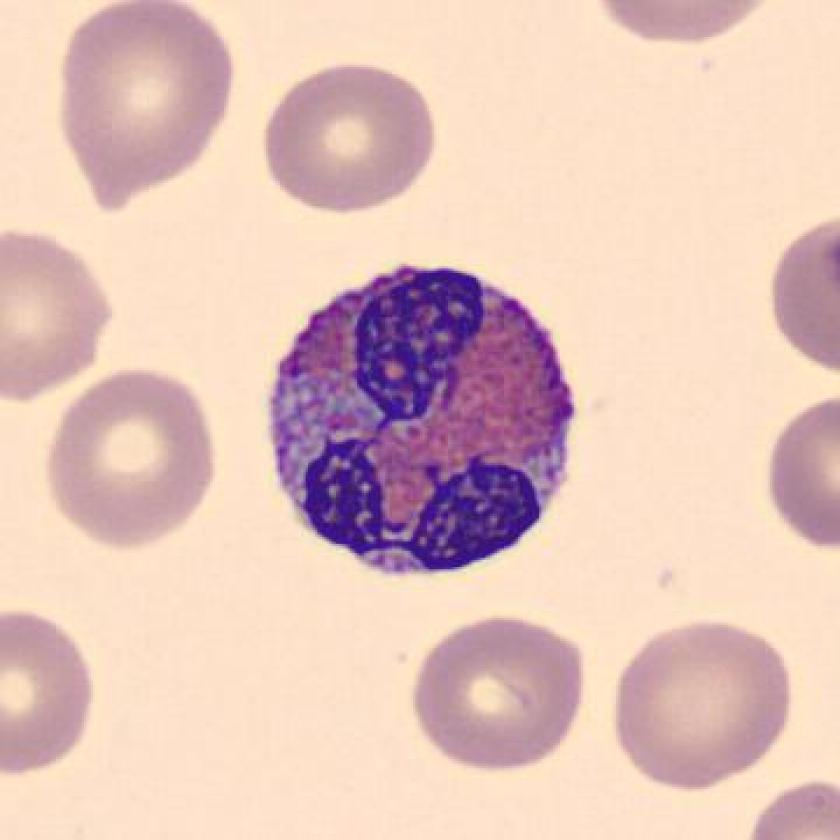eosinophil: (262, 256, 589, 589)
